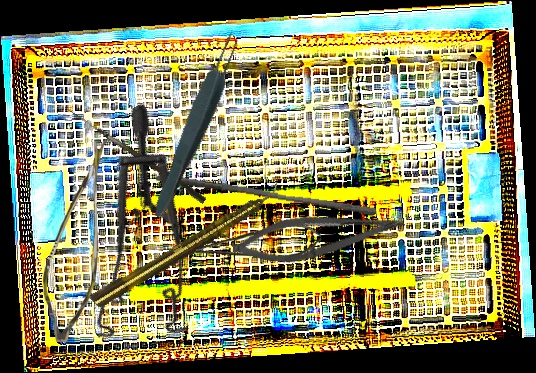Handpiece: (87, 181, 287, 312)
Hook Surgical: (62, 108, 209, 204)
Micro Scissor: (229, 195, 408, 275), (43, 139, 107, 342), (186, 222, 321, 260)
Pusher: (153, 173, 379, 217)
Speculum: (10, 102, 248, 369)
Tissue Forceps: (146, 27, 249, 222)
